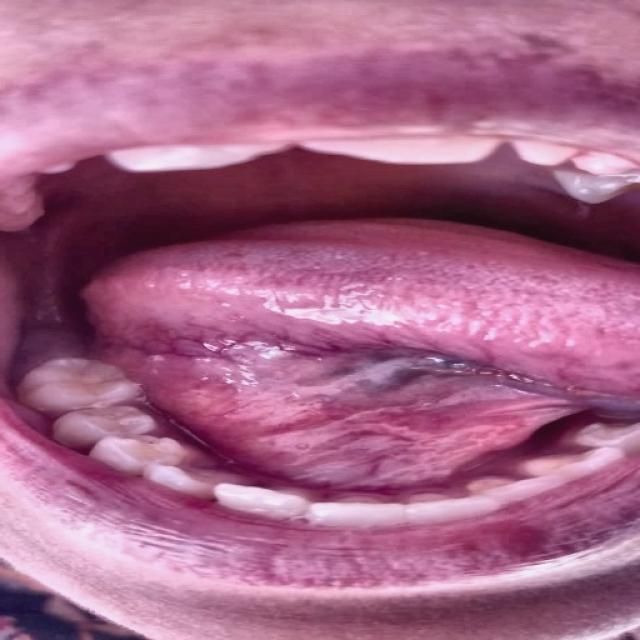processing_area: (5, 143, 639, 491)
